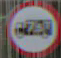Heavy Vehicles: (6, 4, 53, 46)
